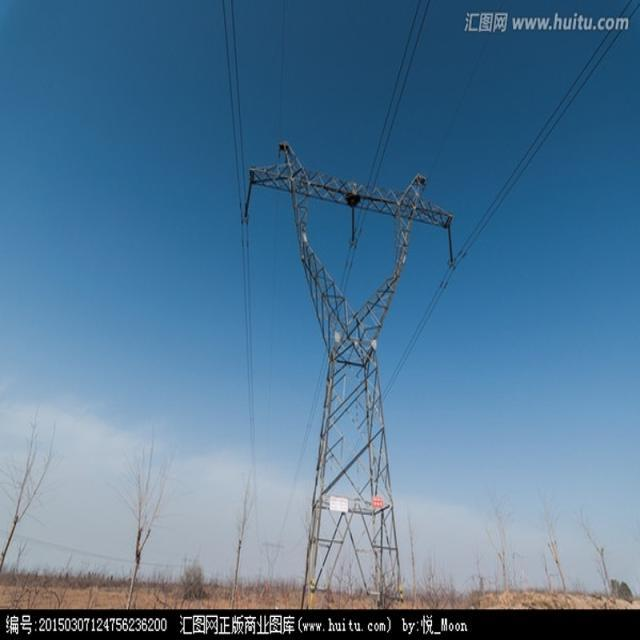non-critical vegetation: (238, 131, 456, 614)
